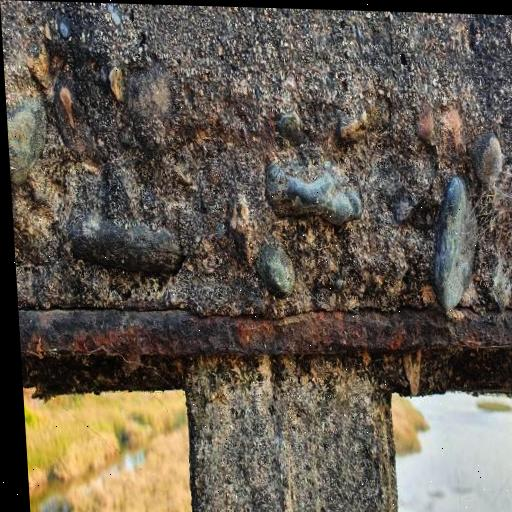exposed_rebar: (19, 308, 512, 365), (70, 212, 184, 274)
